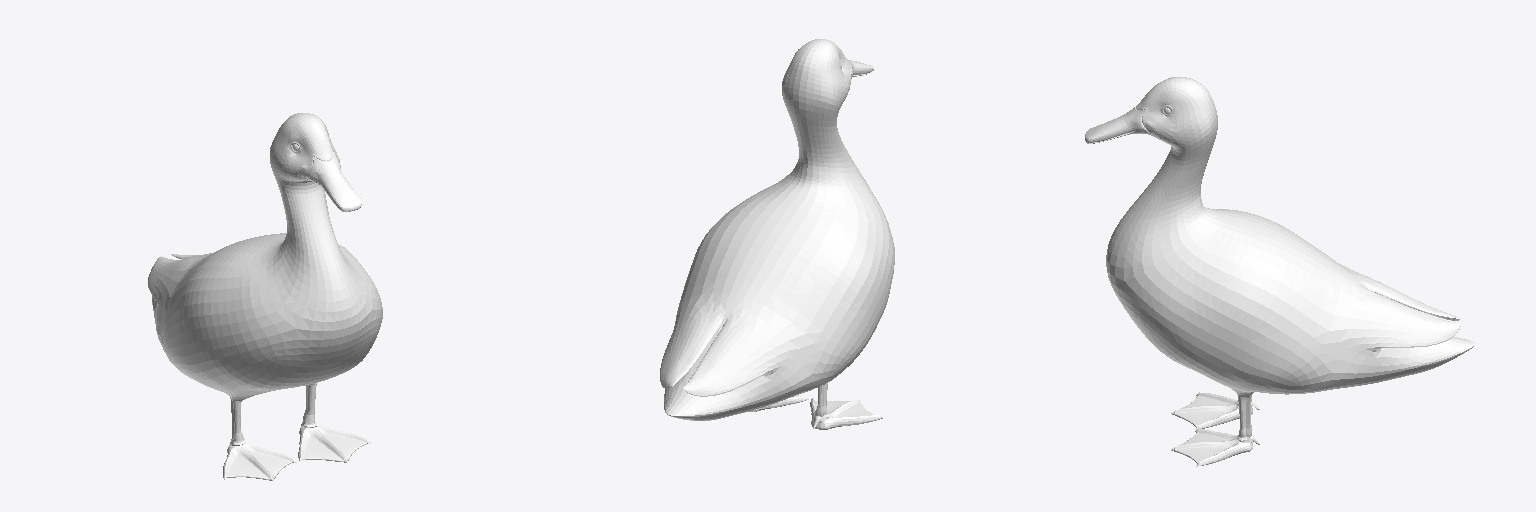
The model's file is duck.obj.
3 renders of one model, left to right at view 1: azimuth 30°, elevation 25°; view 2: azimuth 150°, elevation 25°; view 3: azimuth 270°, elevation 25°, orthographic.
Visible parts, largest first — view 1: 12248_Bird_v1; view 2: 12248_Bird_v1; view 3: 12248_Bird_v1.
Part boxes in pixels (x1,y1,x2,y2): 12248_Bird_v1: (148,113,382,480); 12248_Bird_v1: (660,39,894,429); 12248_Bird_v1: (1085,77,1474,466).
Bounding box in the file's own units: 0.6134 × 1.22 × 1.22.